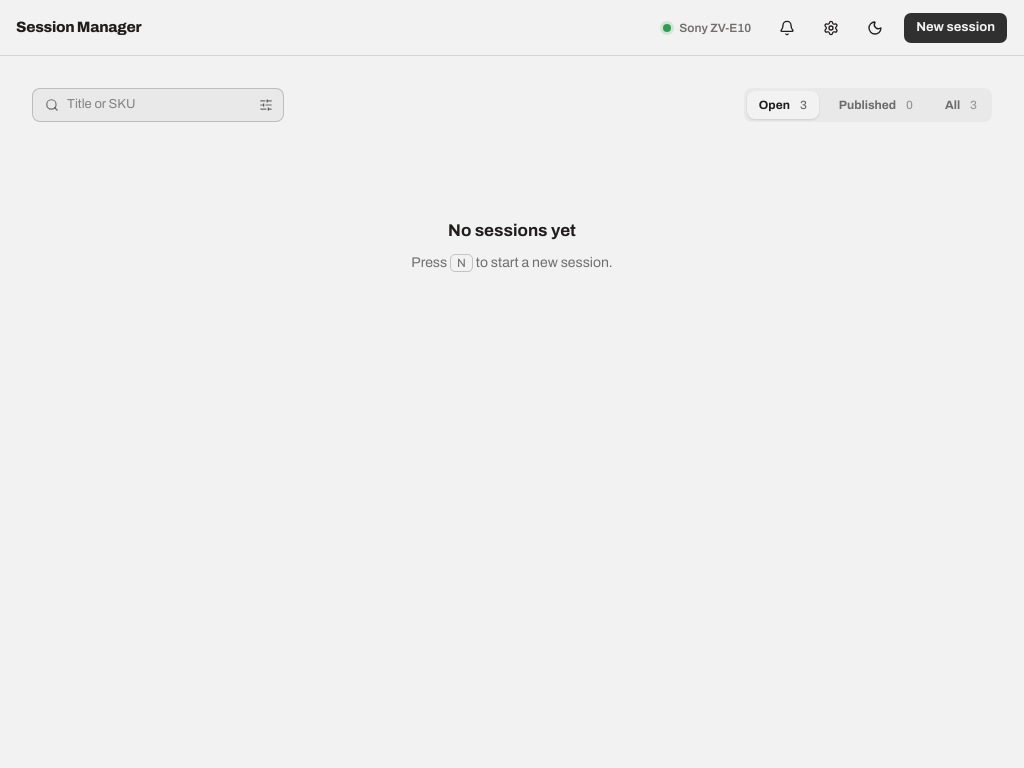
it: C5 new session › C5(b) creating with SKU BFL-1 creates the item, then its session, then opens it
Press n
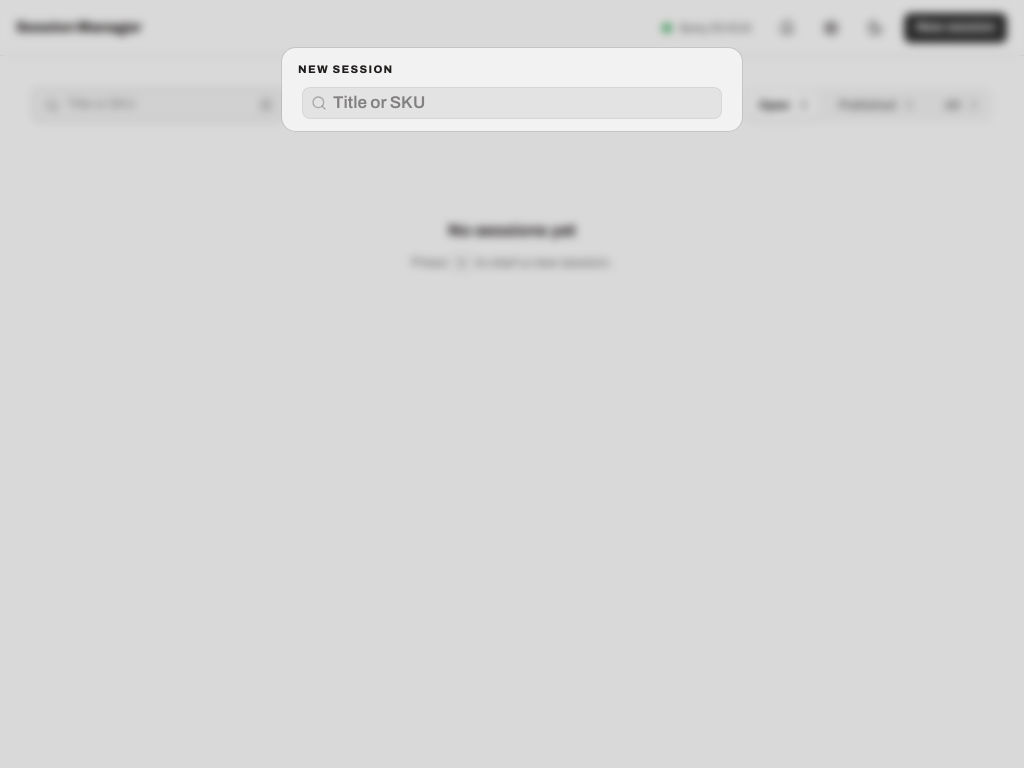
Type "Brass floor lamp" into the dropdown named "Search items by title or SKU" at (524, 103), box 327,91 -> 721,115
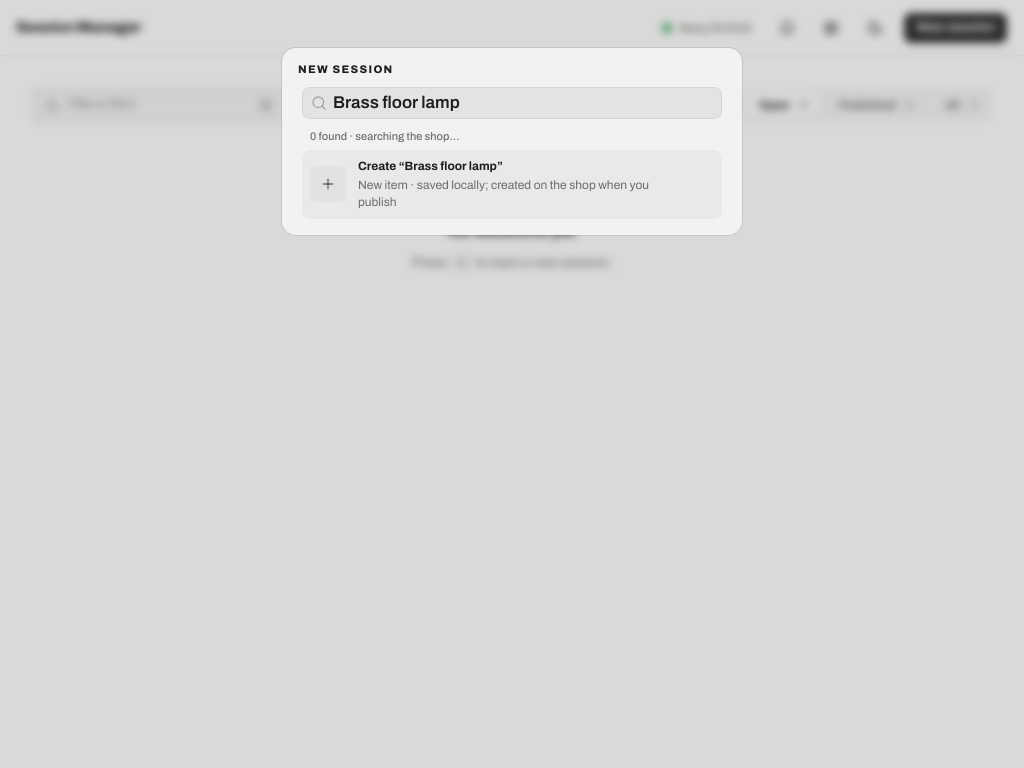
Click the text "Create “Brass floor lamp”" at (430, 166), box 358,159 -> 503,173
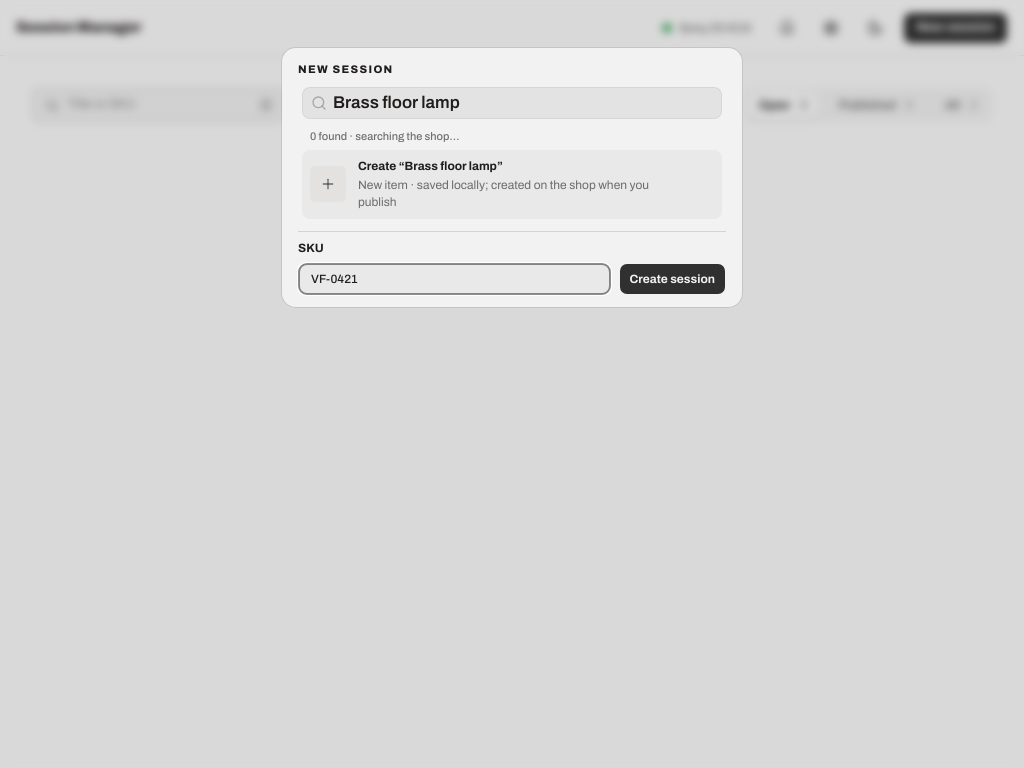
Now the field labelled "SKU" holds "VF-0421"
Replace the text in the field labelled "SKU" with "BFL-1" at (454, 279), box 298,263 -> 610,295
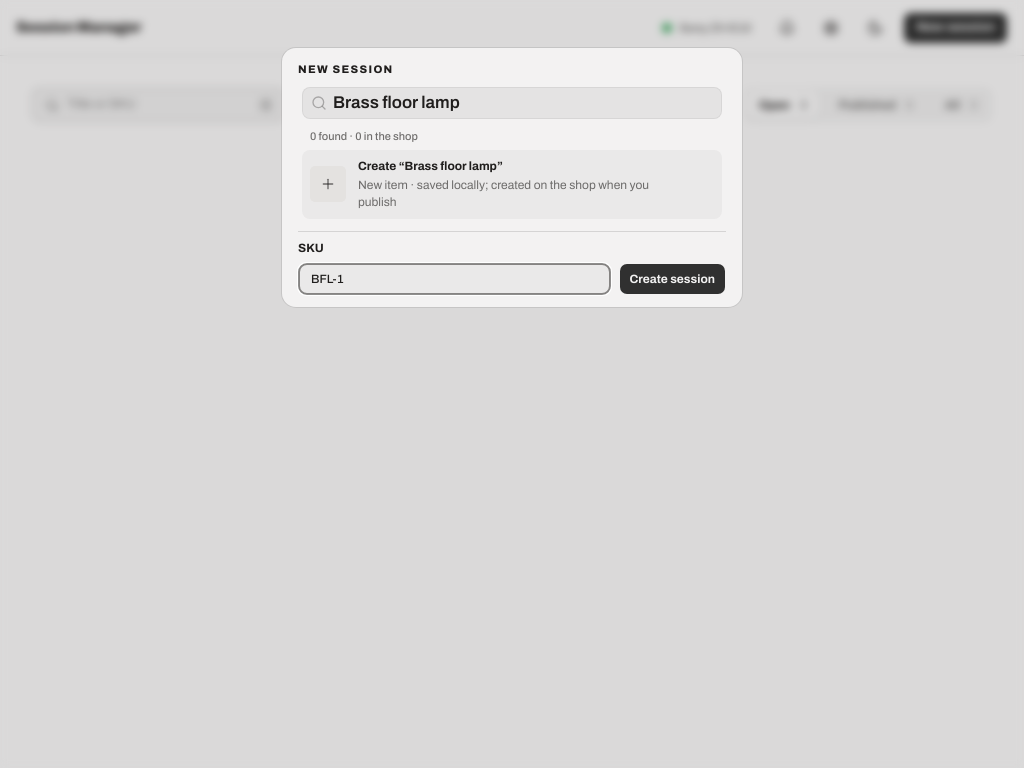
Now the button "Create session" is enabled
Click the button "Create session" at (672, 279), box 618,263 -> 726,295
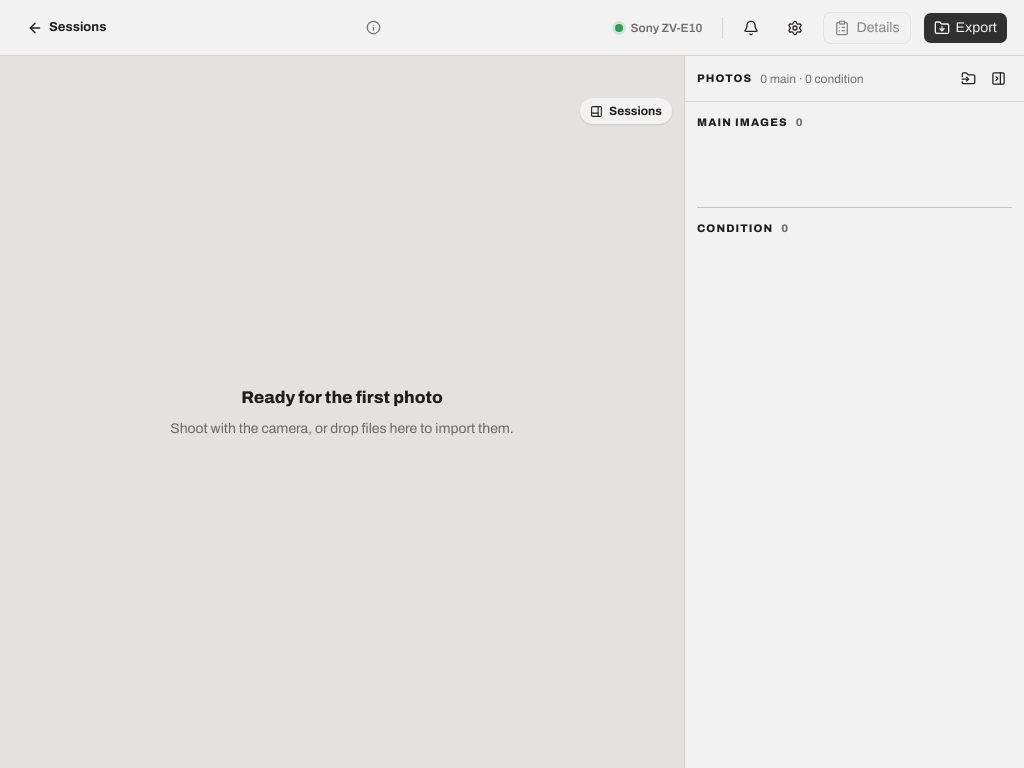
Now the heading "Ready for the first photo" is shown, box 241,385 -> 443,410
